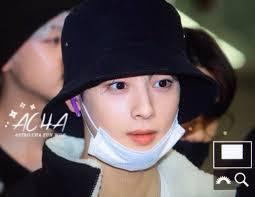earphone: (68, 97, 82, 118)
